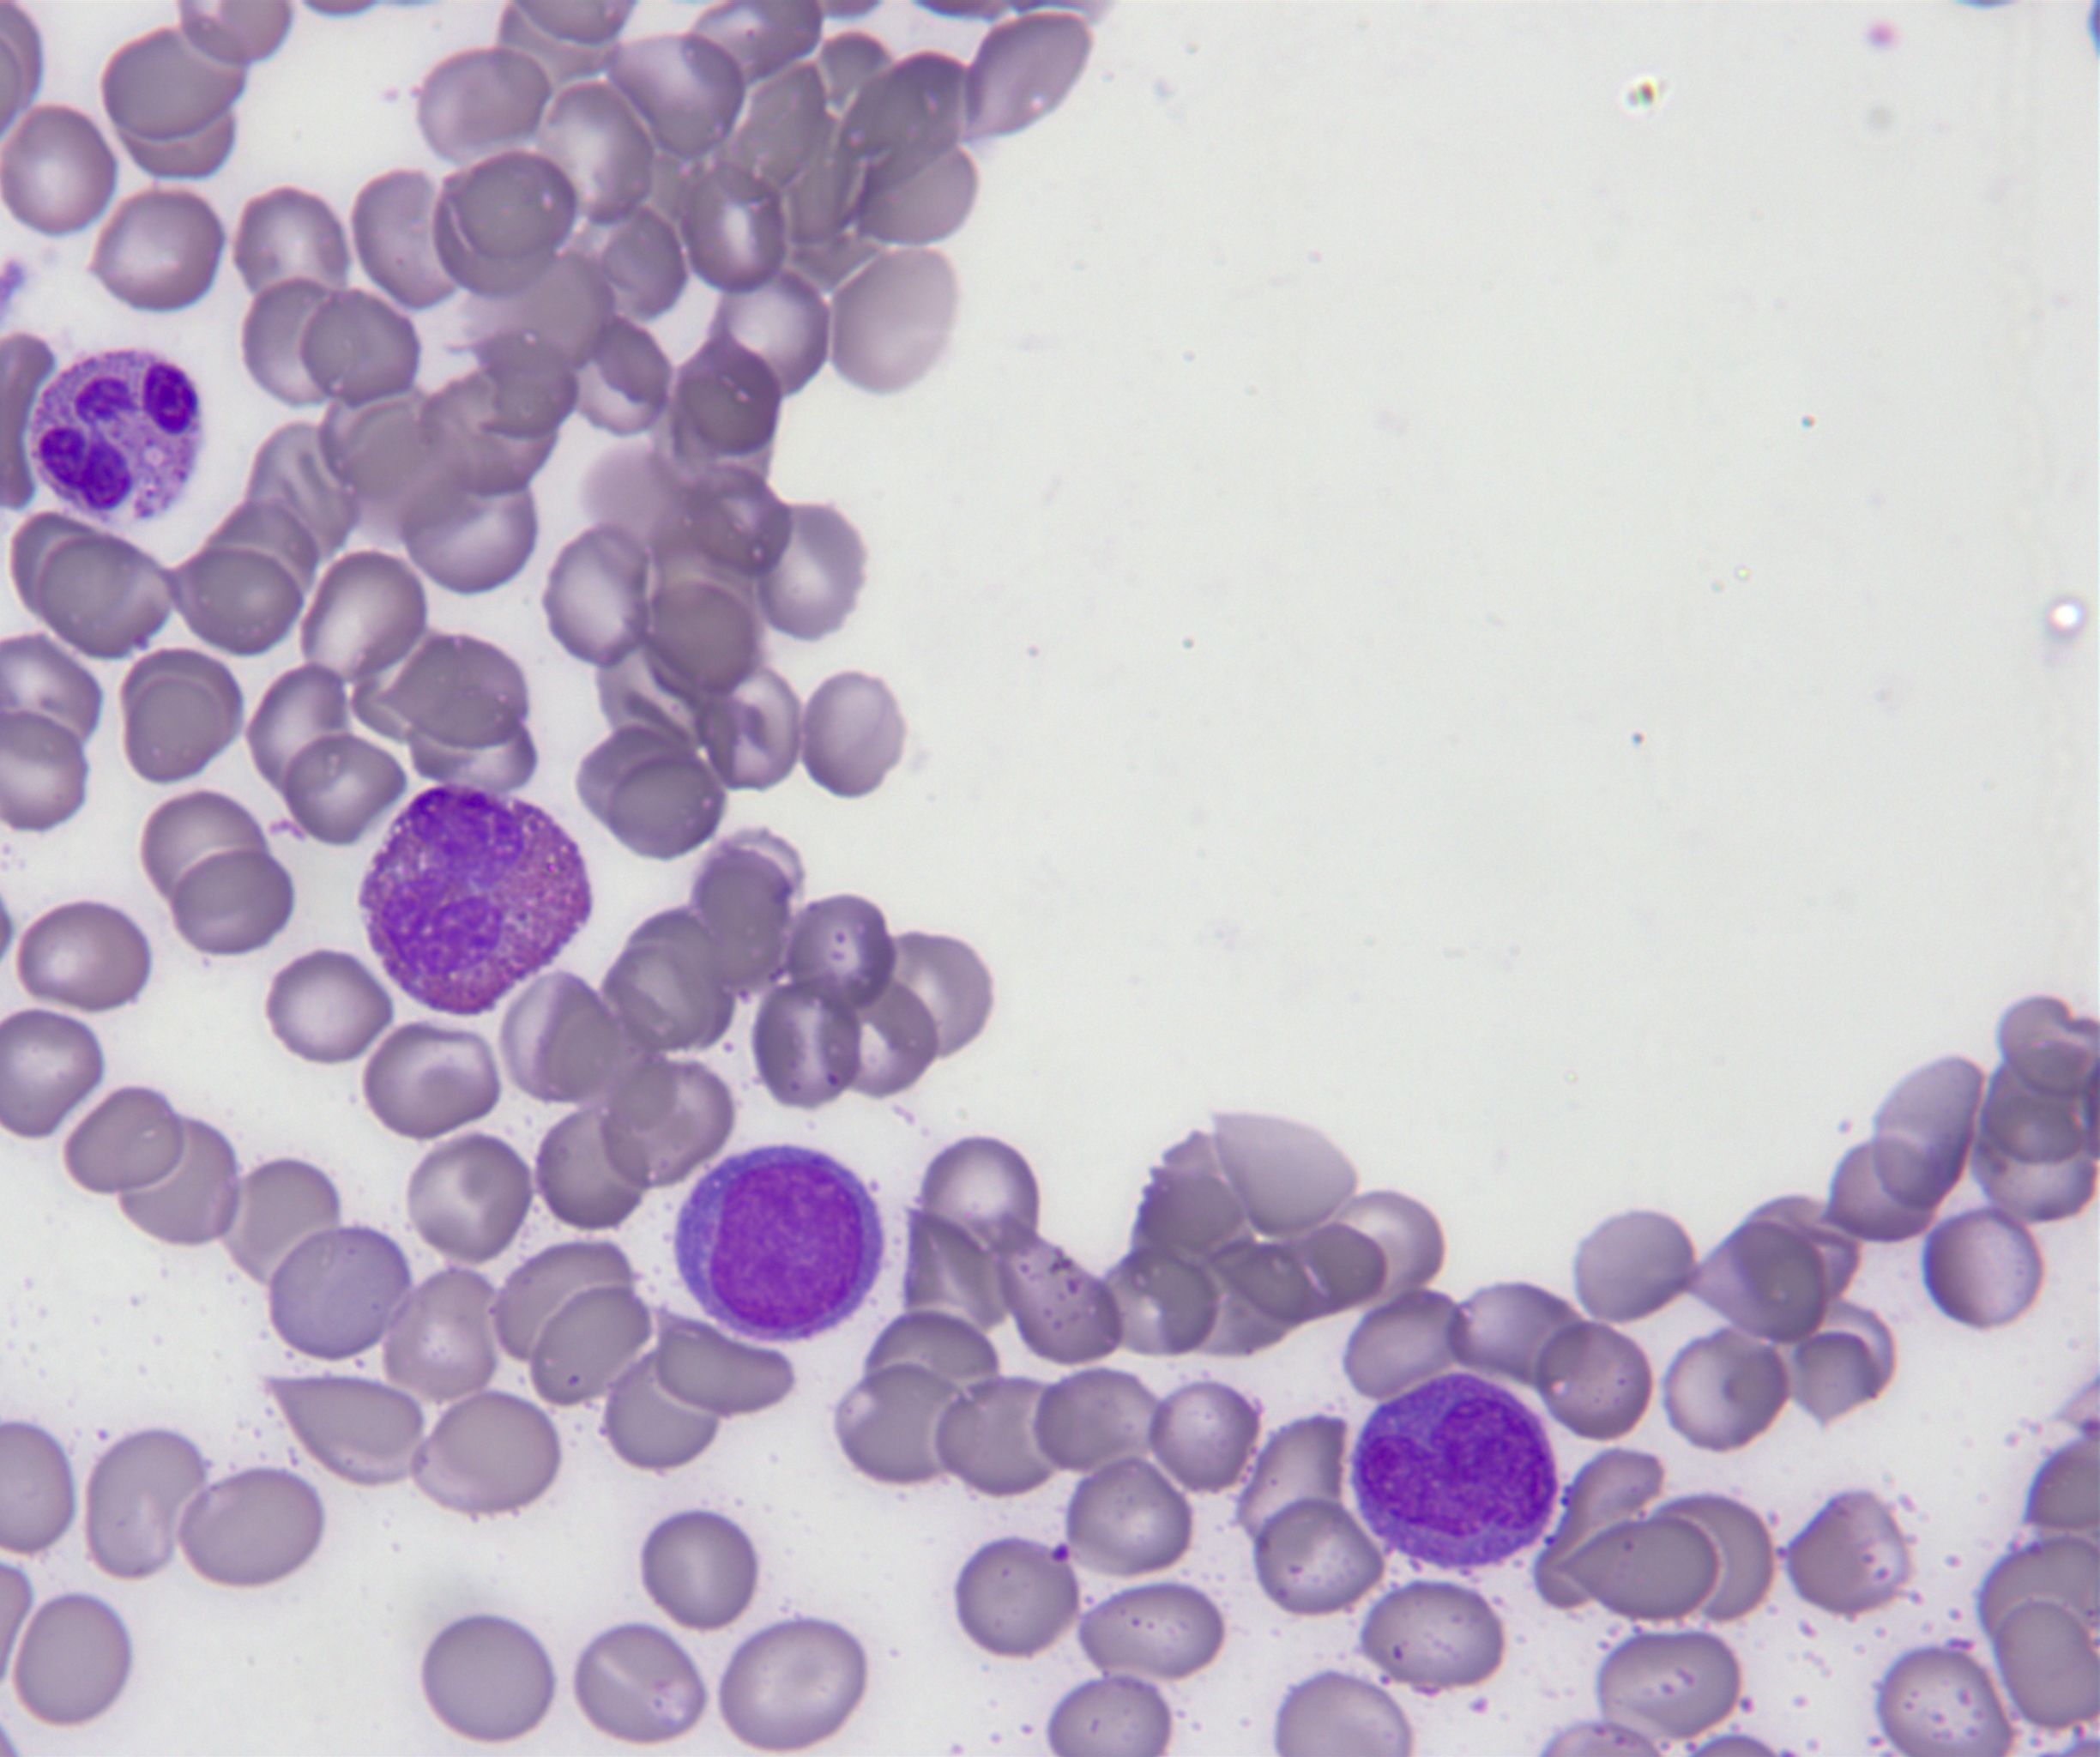32: (673, 1143, 886, 1335)
42: (1353, 1370, 1556, 1563)
6: (23, 344, 201, 520)
E3: (356, 783, 597, 1021)
